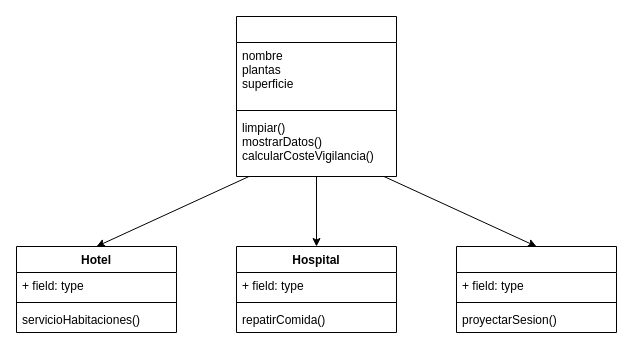
The diagram is 633 pixels wide and 349 high, and some of its shapes have lost their labels. The shapes that lost their labels are listed below. From the top down, each one's box as (x1, y1, x2, y2) in pixels, then its label:
(236, 16, 396, 176): Edificio
(456, 246, 616, 332): Cine
